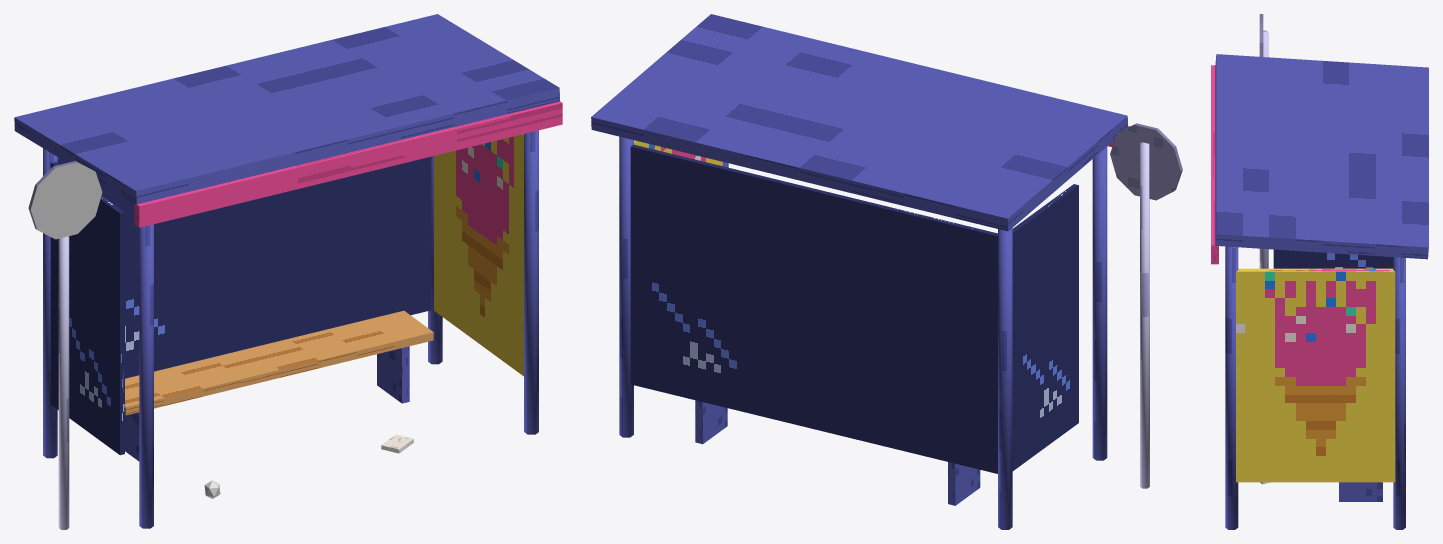
The model's file is Bus Stop.fbx.
3 views of the same model, side by side, from view 1: azimuth 30°, elevation 25°; view 2: azimuth 150°, elevation 25°; view 3: azimuth 270°, elevation 25° (orthographic). The views are drawn at different scales.
Visible parts, largest first — view 1: Bus Stop roof, Bus Stop back glass, Bus Stop ad panel, Bus Stop side glass, Bus Stop bench, Bus Stop roof trim, Bus Stop post -1 -1, Bus Stop post 1 -1, Bus Stop sign, Bus Stop sign pole, Bus Stop post -1 1, Bus Stop bench leg 1 (+2 smaller); view 2: Bus Stop back glass, Bus Stop roof, Bus Stop side glass, Bus Stop post -1 -1, Bus Stop post -1 1, Bus Stop post 1 1, Bus Stop sign, Bus Stop sign pole, Bus Stop bench leg 1, Bus Stop bench leg -1; view 3: Bus Stop roof, Bus Stop ad panel, Bus Stop post 1 -1, Bus Stop post 1 1, Bus Stop side glass, Bus Stop roof trim, Bus Stop bench leg 1, Bus Stop sign pole.
Part boxes in pixels (x1,y1,x2,y2): Bus Stop roof: (14, 14, 559, 204); Bus Stop back glass: (57, 156, 431, 378); Bus Stop ad panel: (434, 134, 523, 376); Bus Stop side glass: (50, 161, 124, 455); Bus Stop bench: (125, 310, 433, 415); Bus Stop roof trim: (134, 101, 562, 227); Bus Stop post -1 -1: (139, 224, 153, 528); Bus Stop post 1 -1: (524, 130, 538, 434); Bus Stop sign: (28, 161, 102, 239); Bus Stop sign pole: (58, 236, 69, 529); Bus Stop post -1 1: (43, 148, 57, 458); Bus Stop bench leg 1: (377, 346, 409, 403); Bus Stop back glass: (630, 144, 997, 473); Bus Stop roof: (591, 14, 1128, 231); Bus Stop side glass: (1012, 184, 1078, 470); Bus Stop post -1 -1: (1092, 147, 1107, 460); Bus Stop post -1 1: (998, 228, 1012, 529); Bus Stop post 1 1: (619, 136, 633, 437); Bus Stop sign: (1110, 123, 1182, 200); Bus Stop sign pole: (1140, 142, 1149, 488); Bus Stop bench leg 1: (695, 400, 727, 444); Bus Stop bench leg -1: (948, 462, 980, 505); Bus Stop roof: (1215, 54, 1428, 259); Bus Stop ad panel: (1236, 268, 1395, 482); Bus Stop post 1 -1: (1225, 246, 1238, 529); Bus Stop post 1 1: (1393, 257, 1405, 529); Bus Stop side glass: (1273, 249, 1393, 268); Bus Stop roof trim: (1211, 65, 1218, 264); Bus Stop bench leg 1: (1339, 482, 1382, 501); Bus Stop sign pole: (1259, 30, 1268, 268).
Bounding box in the file's own units: 3.93 × 2.72 × 1.69.
